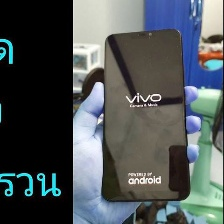phone: (96, 24, 193, 204)
